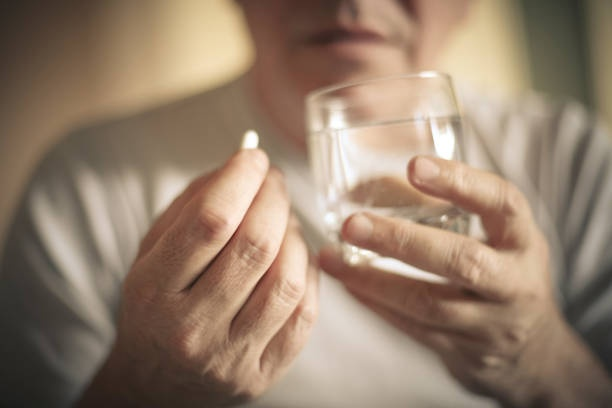pills: (226, 127, 260, 163)
